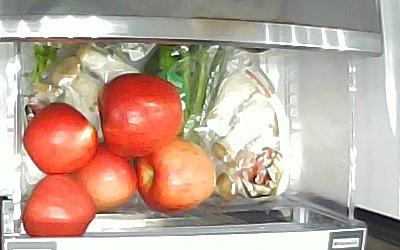apple: (99, 73, 184, 157), (136, 134, 215, 213), (22, 102, 99, 176), (21, 176, 95, 238), (76, 144, 138, 211)
